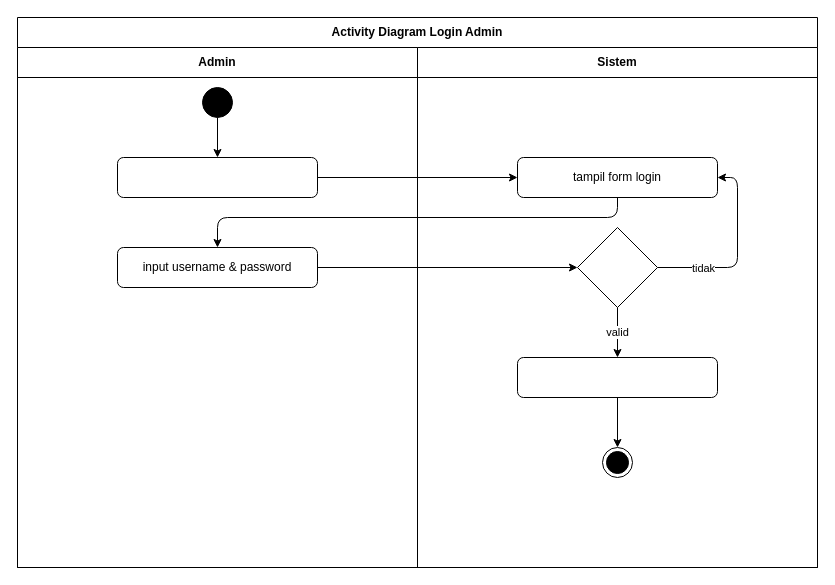
The diagram is 835 pixels wide and 585 high, and some of its shapes have lost their labels. The box of each missing label's shape, as (x1, y1, x2, y2) in pixels:
akses halaman login: (116, 156, 318, 198)
masuk ke dashboard: (516, 356, 718, 398)
validasi data: (576, 226, 658, 308)
